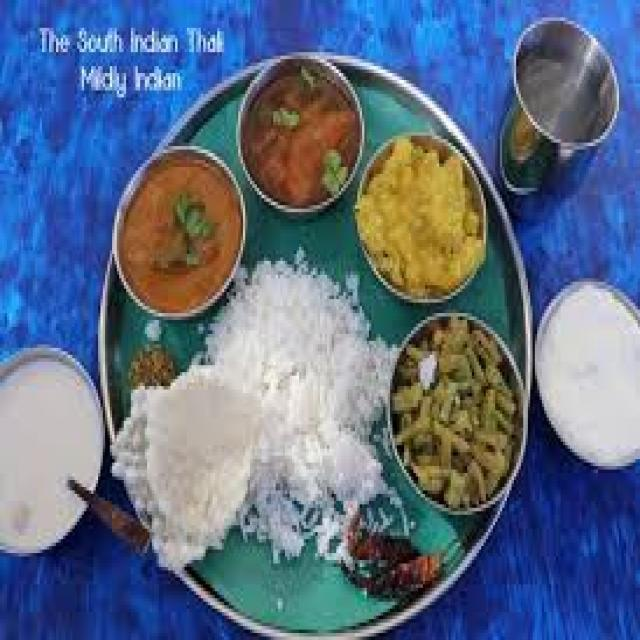curd: (0, 345, 110, 560), (527, 269, 640, 472)
dal: (348, 126, 493, 309)
rice: (222, 258, 381, 531), (129, 368, 269, 571)
sambar-rasam: (231, 43, 373, 219), (114, 148, 254, 324)
veg-fry: (382, 308, 529, 512)
